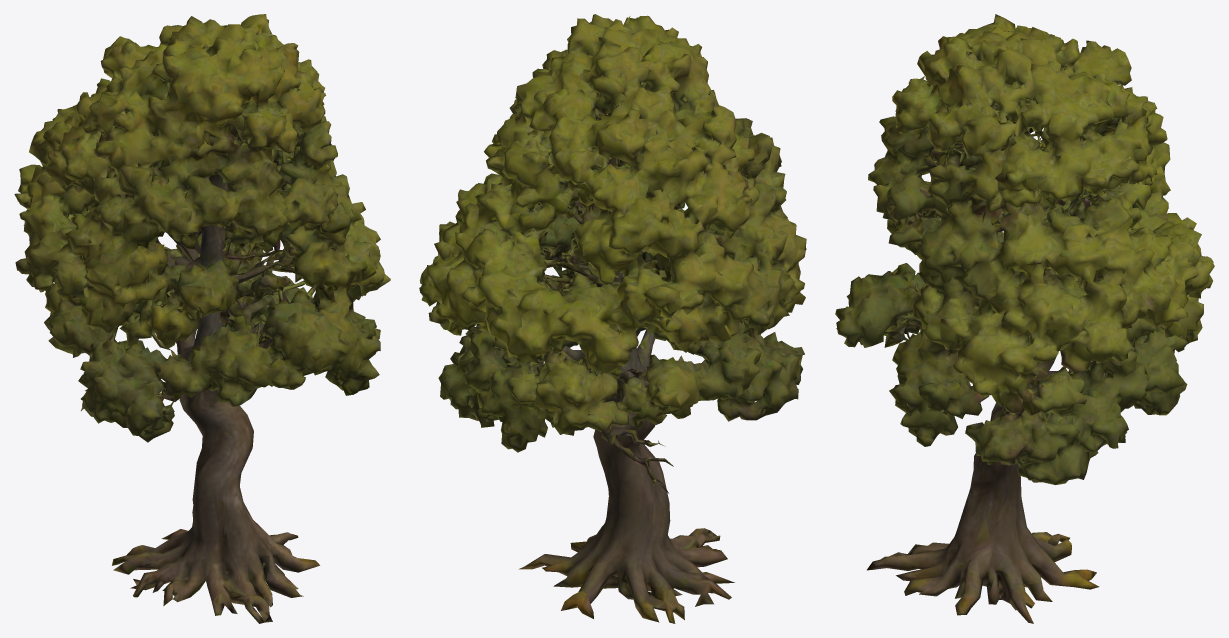
Rendered from A_towering_ancient_oa.glb.
3 views of the same model, side by side, from view 1: azimuth 30°, elevation 25°; view 2: azimuth 150°, elevation 25°; view 3: azimuth 270°, elevation 25° (orthographic).
Parts seen in each view (by area): view 1: A_towering_ancient_oa; view 2: A_towering_ancient_oa; view 3: A_towering_ancient_oa.
Part boxes in pixels (box(x1,y1,x2,y2)): A_towering_ancient_oa: box(14, 14, 390, 623); A_towering_ancient_oa: box(419, 14, 806, 623); A_towering_ancient_oa: box(835, 14, 1214, 623).
Bounding box in the file's own units: 1.23 × 1.9 × 1.18.
Materials: 1 (1 with a texture image).
